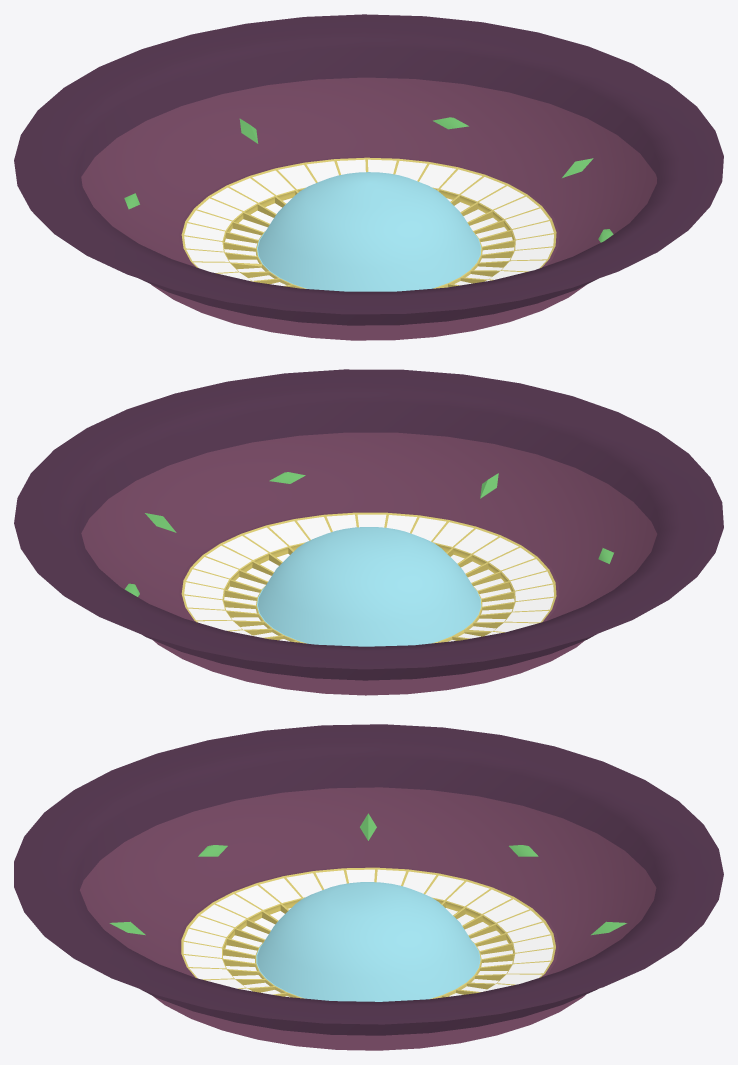
The model's file is roulette.glb.
3 views of the same model, one above another, from view 1: azimuth 30°, elevation 25°; view 2: azimuth 150°, elevation 25°; view 3: azimuth 270°, elevation 25° (orthographic).
Visible parts, largest first — view 1: RuletaBase-col, RuletaSpin-col; view 2: RuletaBase-col, RuletaSpin-col; view 3: RuletaBase-col, RuletaSpin-col.
Boxes of the visible parts, left/top/right/bottom form: RuletaBase-col: left=14, top=14, right=723, bottom=325; RuletaSpin-col: left=151, top=156, right=585, bottom=340; RuletaBase-col: left=14, top=369, right=723, bottom=680; RuletaSpin-col: left=153, top=511, right=583, bottom=695; RuletaBase-col: left=14, top=724, right=723, bottom=1035; RuletaSpin-col: left=153, top=866, right=585, bottom=1050.
Bounding box in the file's own units: 0.7735 × 0.1059 × 0.7728.
1 material, 1 textured.
